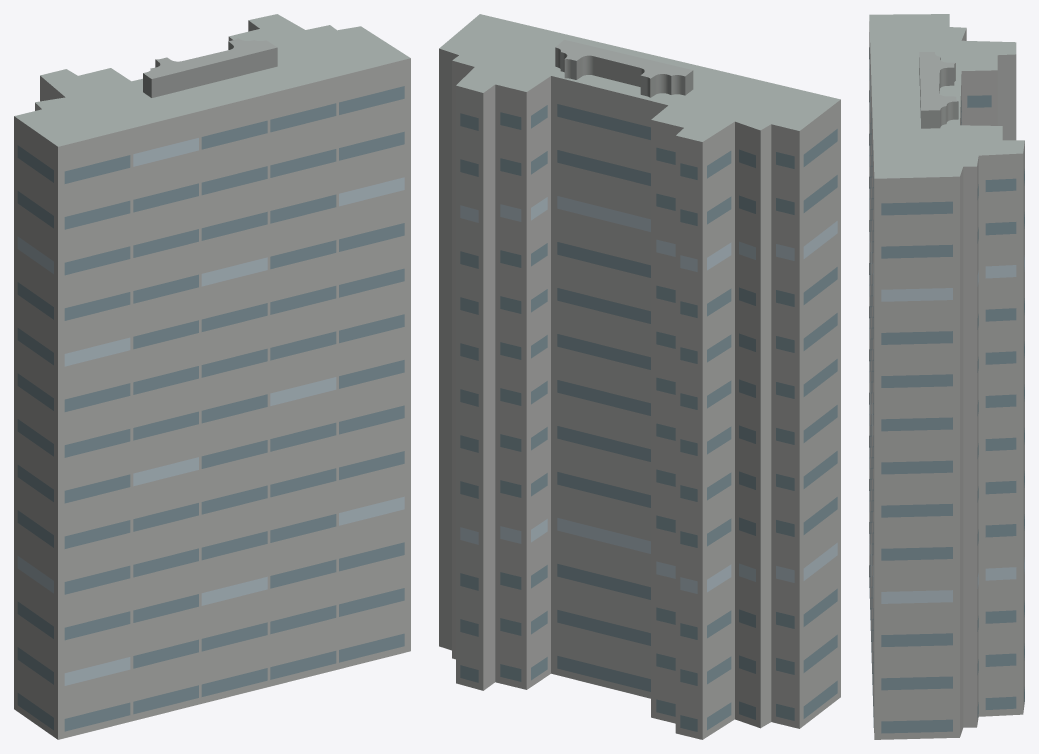
Rendered from fallback-godeok-central-ipark-508.glb.
The picture shows the model from 3 angles, left to right: view 1: azimuth 30°, elevation 25°; view 2: azimuth 150°, elevation 25°; view 3: azimuth 270°, elevation 25°; orthographic projection. The views are drawn at different scales.
Parts seen in each view (by area): view 1: fallback-godeok-central-ipark-508; view 2: fallback-godeok-central-ipark-508; view 3: fallback-godeok-central-ipark-508.
Part boxes in pixels (box(x1,y1,x2,y2)): fallback-godeok-central-ipark-508: box(14, 14, 410, 739); fallback-godeok-central-ipark-508: box(439, 14, 840, 739); fallback-godeok-central-ipark-508: box(869, 14, 1024, 739).
Bounding box in the file's own units: 47.01 × 77 × 18.79.
